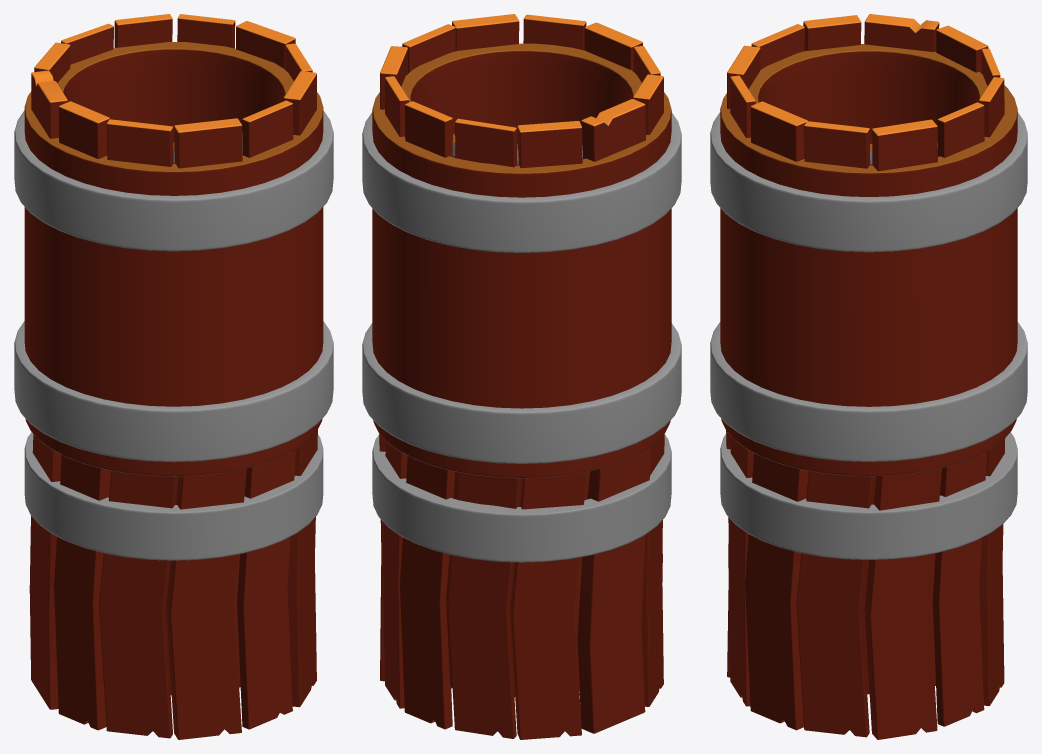
File: SM_Curveb.FBX
The picture shows the model from 3 angles, left to right: view 1: azimuth 30°, elevation 25°; view 2: azimuth 150°, elevation 25°; view 3: azimuth 270°, elevation 25°; orthographic projection.
Parts seen in each view (by area): view 1: Cuveb001; view 2: Cuveb001; view 3: Cuveb001.
Boxes of the visible parts, x1,y1,x2,y2 form: Cuveb001: (14, 14, 333, 739); Cuveb001: (362, 14, 681, 739); Cuveb001: (710, 14, 1027, 739).
Size of the model in its own units: 678 by 679 by 1427.
